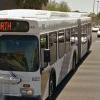Bus: (3, 5, 93, 100)
